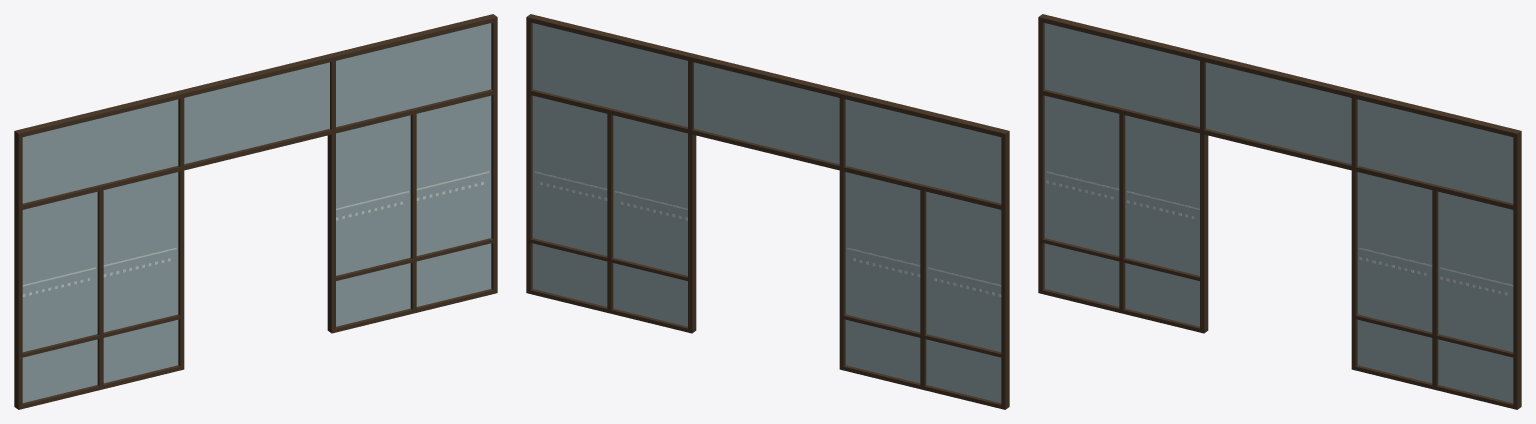
The model's file is SM_80s_GlassFront.glb.
3 views of the same model, side by side, from view 1: azimuth 30°, elevation 25°; view 2: azimuth 150°, elevation 25°; view 3: azimuth 330°, elevation 25° (orthographic).
Visible parts, largest first — view 1: SM_80s_GlassFront; view 2: SM_80s_GlassFront; view 3: SM_80s_GlassFront.
Part boxes in pixels (x1,y1,x2,y2): SM_80s_GlassFront: [14, 14, 497, 409]; SM_80s_GlassFront: [526, 14, 1009, 409]; SM_80s_GlassFront: [1038, 14, 1521, 409].
Bounding box in the file's own units: 10.4 × 5.73 × 0.16.
